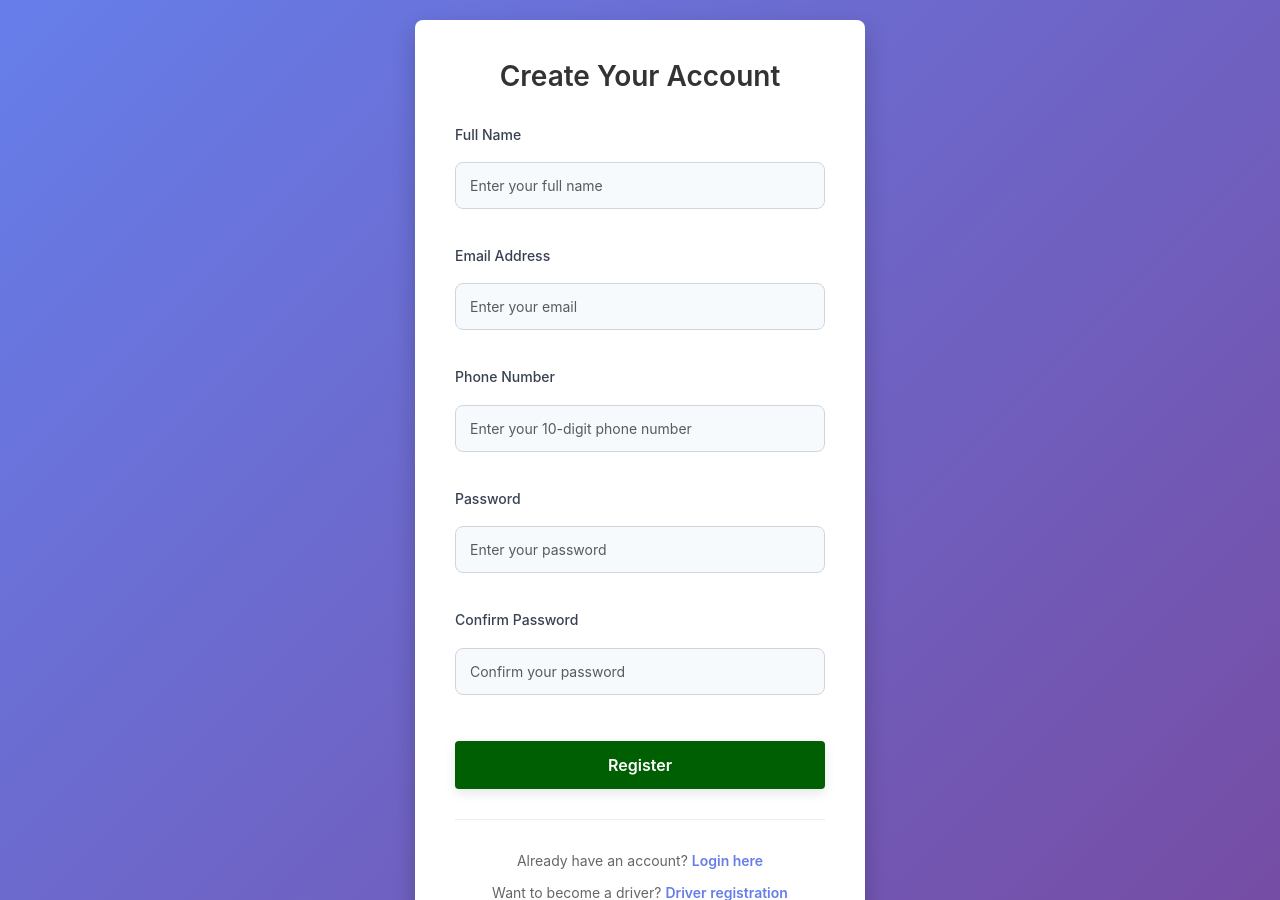
Register Component › validates phone number is 10 digits
The image size is (1280, 900).
Type "Test User" into the field labelled "Full Name" at point(640, 186), box [455,162,825,209]
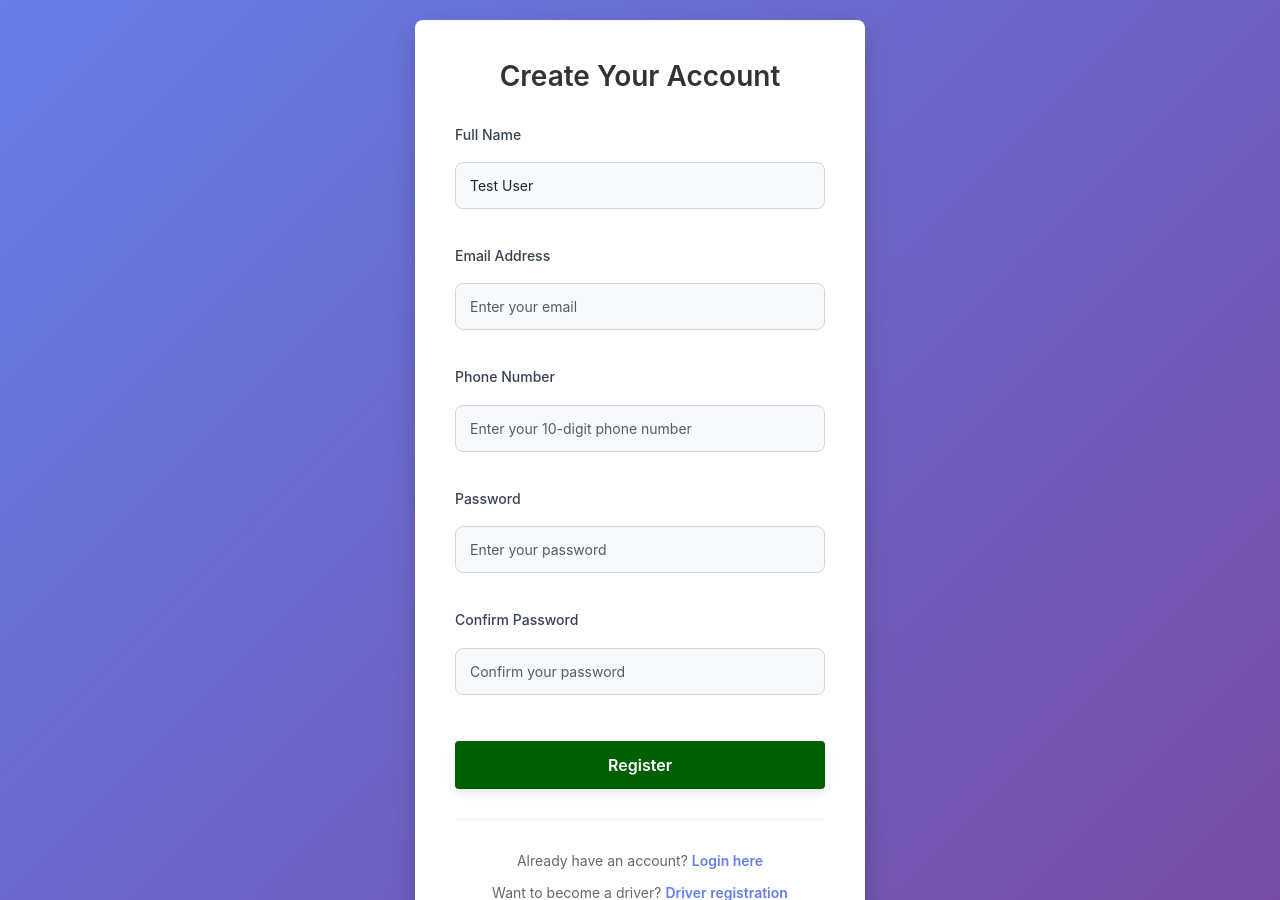
Type "test@test.com" into the field labelled "Email Address" at point(640, 307), box [455,283,825,330]
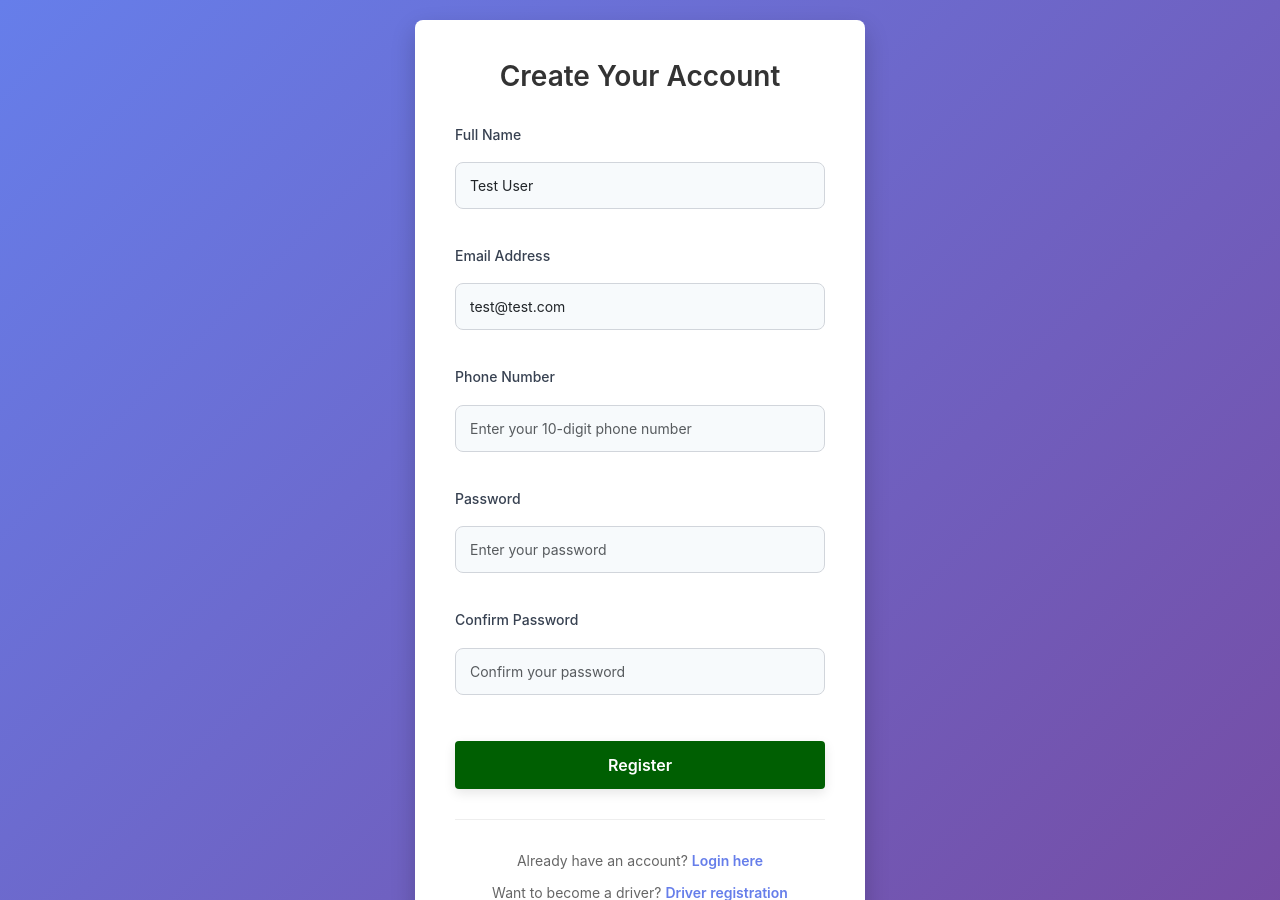
Type "123" into the field labelled "Phone Number" at point(640, 428), box [455,405,825,452]
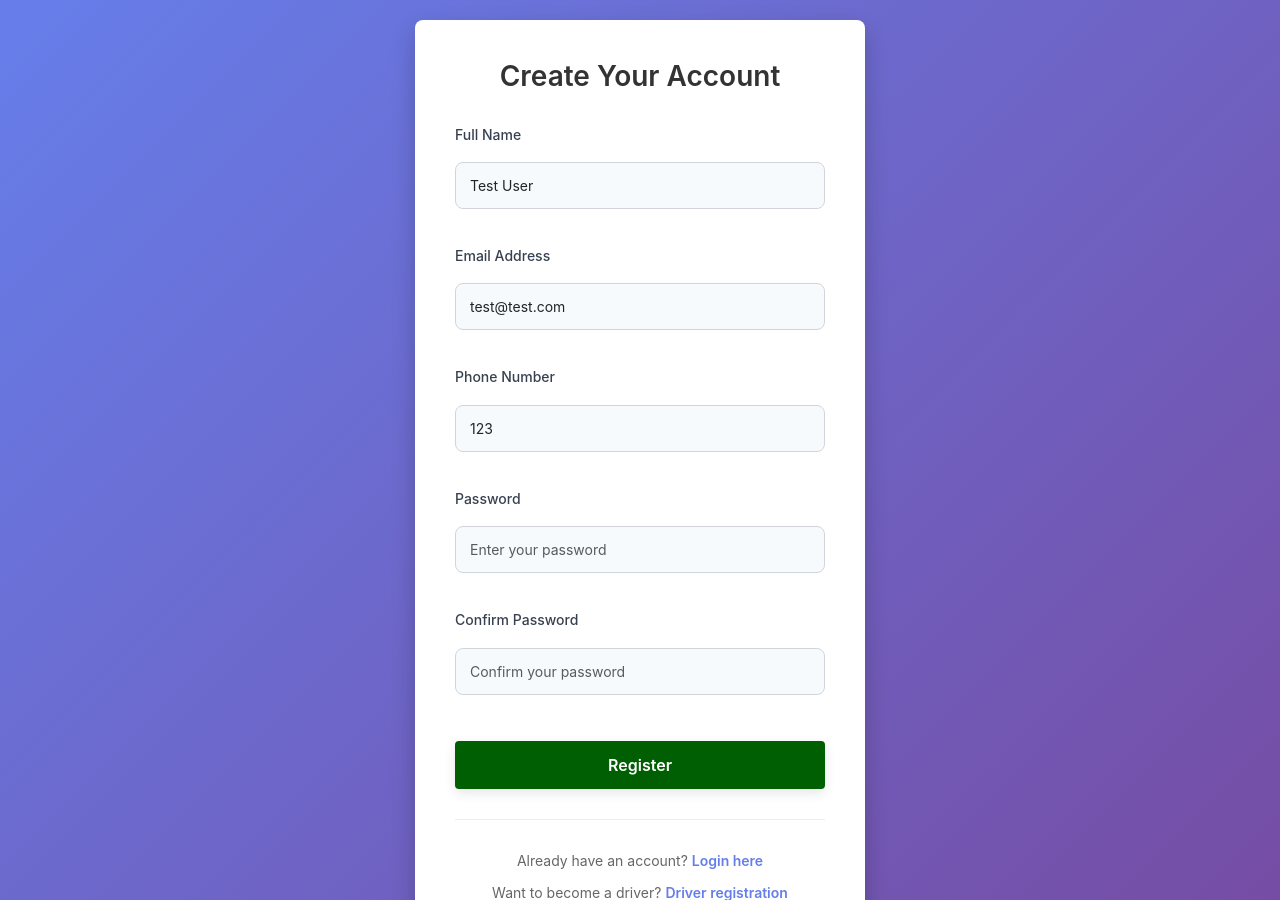
Type "password123" into the password field labelled "Password" at point(640, 550), box [455,526,825,573]
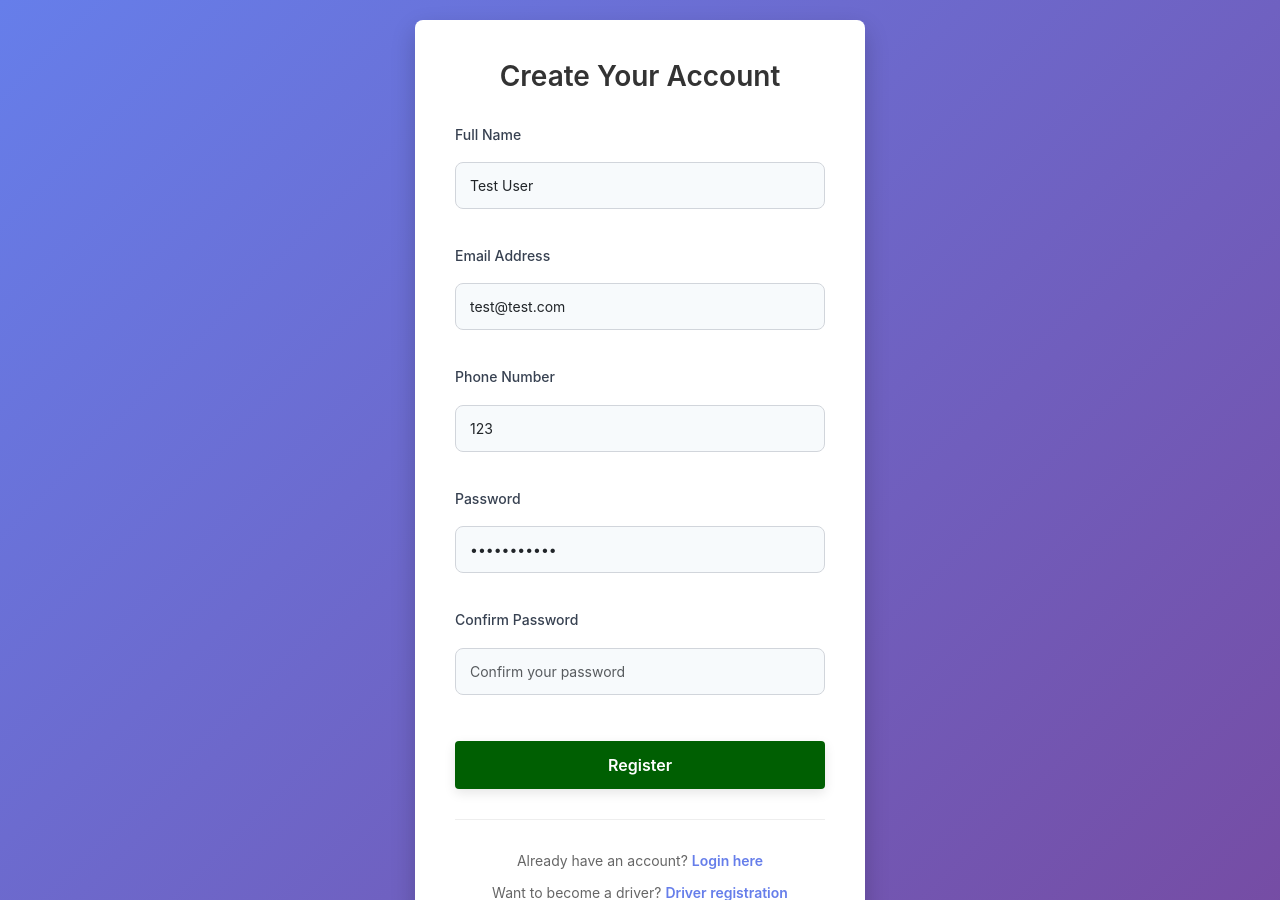
Type "password123" into the password field labelled "Confirm Password" at point(640, 671), box [455,648,825,694]
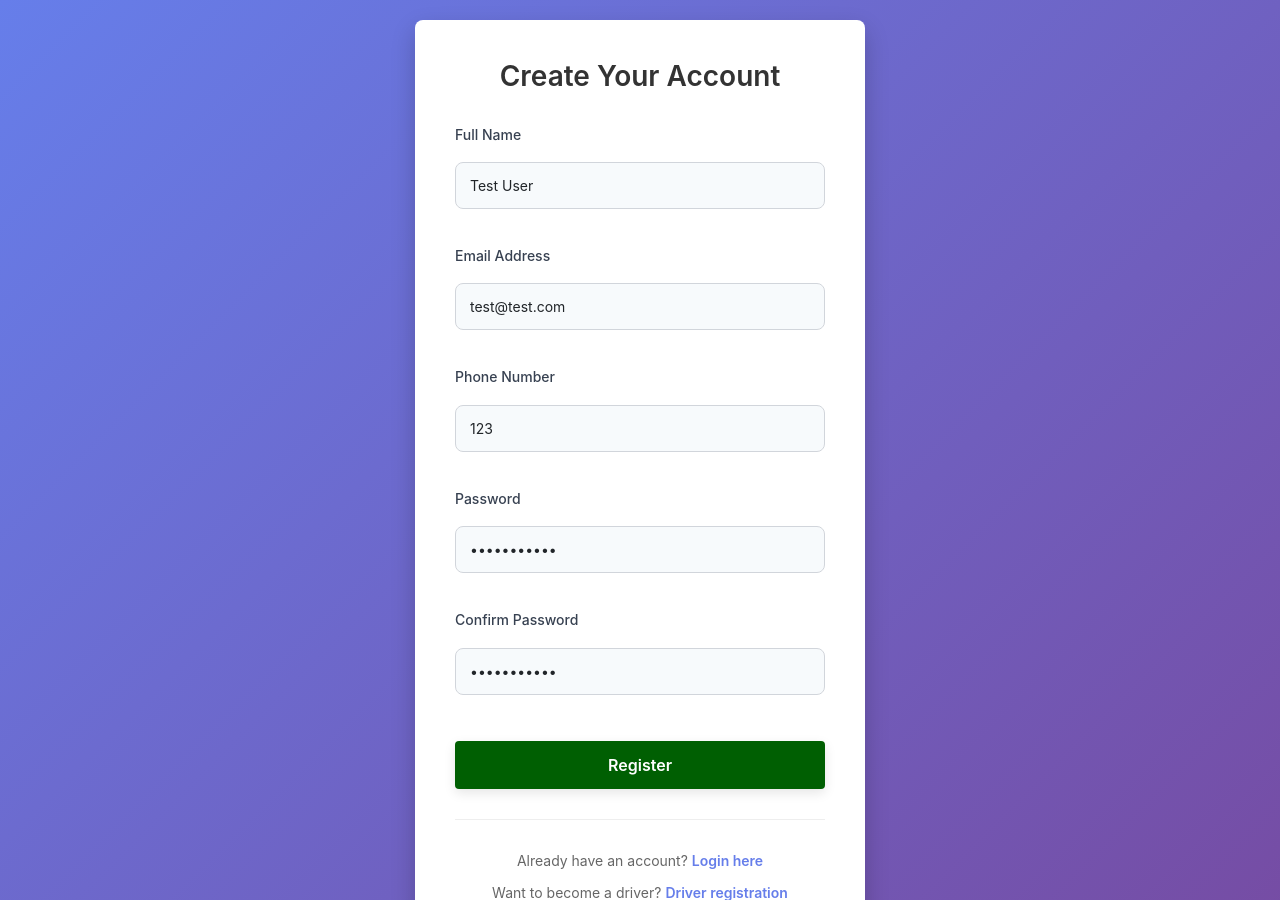
Click the button "Register" at point(640, 764), box [455,740,825,788]
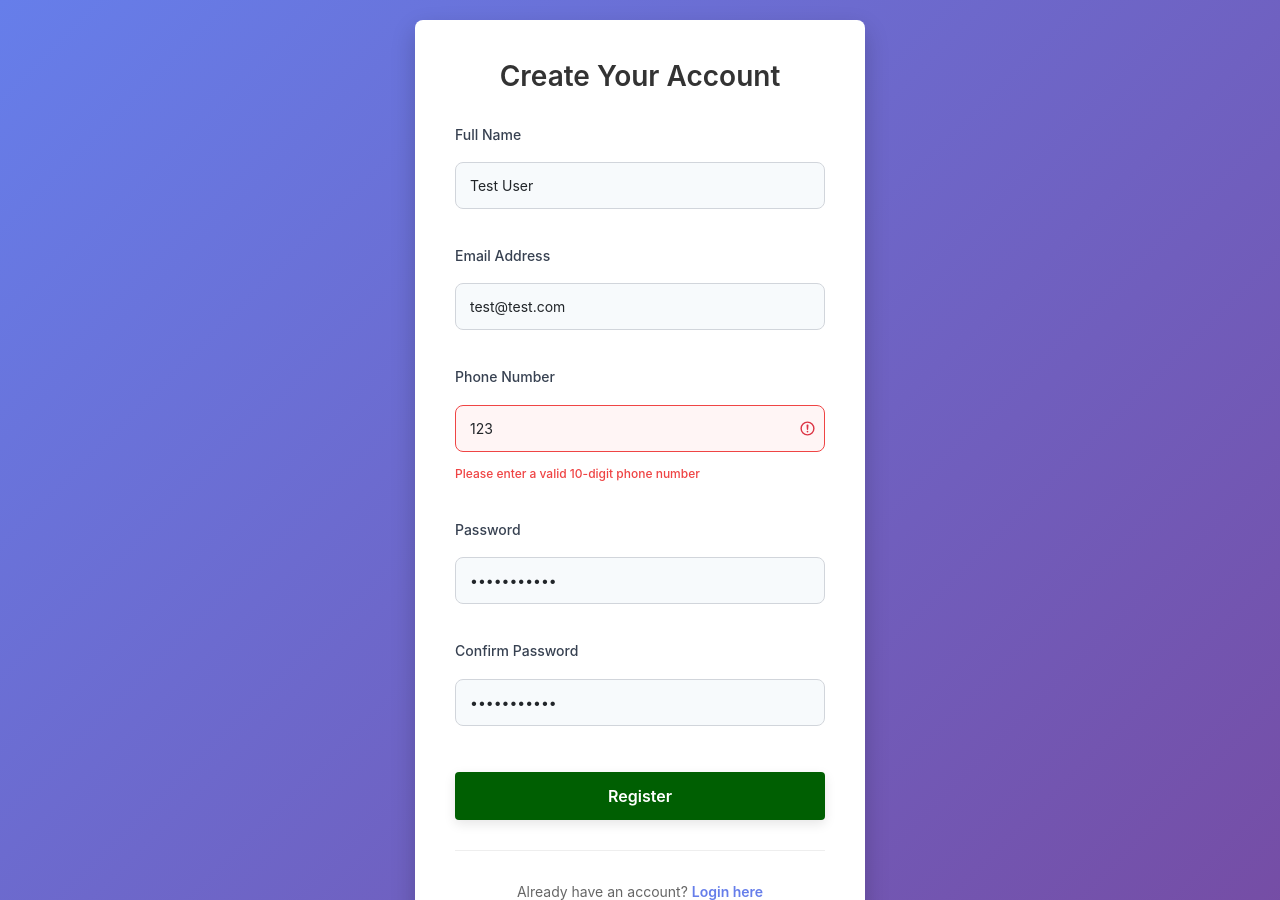
Result: the text "Please enter a valid 10-digit phone number" is shown at [455,466,700,481]
